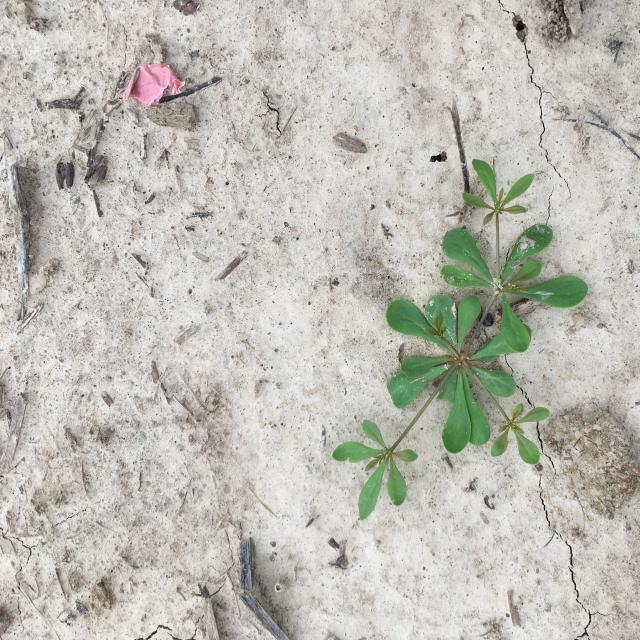Carpetweed: (332, 159, 589, 522)
